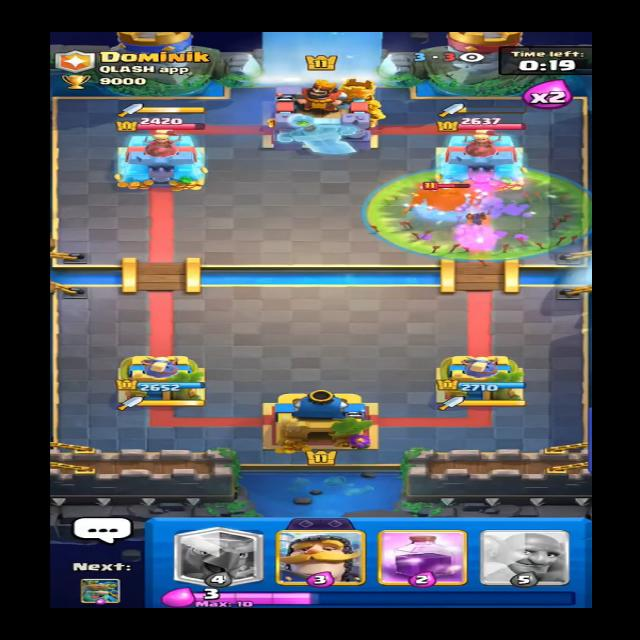Pekka: (414, 177, 474, 219)
